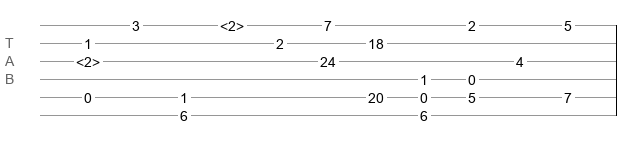0: (84, 90, 92, 100), (420, 90, 428, 100), (468, 72, 476, 82)
1: (84, 36, 92, 46), (180, 90, 188, 100), (420, 72, 428, 82)
18: (368, 36, 384, 46)
2: (276, 36, 284, 46), (468, 18, 476, 28)
20: (368, 90, 384, 100)
24: (320, 54, 336, 64)
3: (132, 18, 140, 28)
4: (516, 54, 524, 64)
5: (468, 90, 476, 100), (564, 18, 572, 28)
6: (180, 108, 188, 118), (420, 108, 428, 118)
7: (324, 18, 332, 28), (564, 90, 572, 100)
harmonic: (76, 54, 100, 64), (220, 18, 244, 28)
